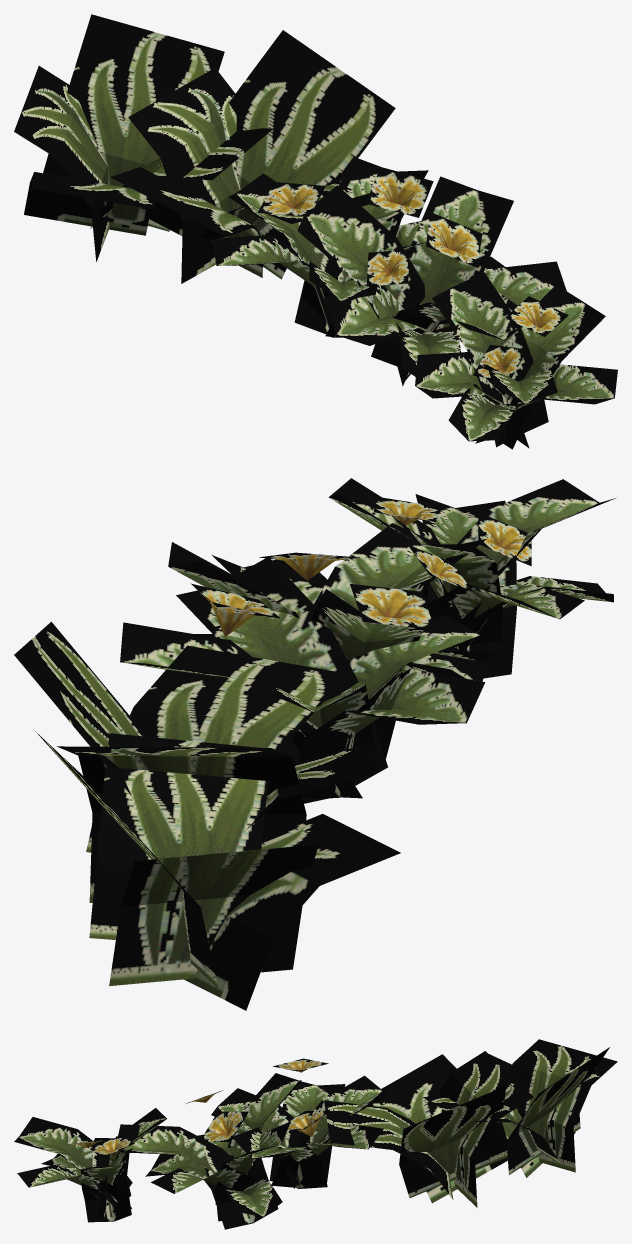
File: plant_lobbynew02_zhiwu_huacao01.FBX
3 renders of one model, top to bottom at view 1: azimuth 30°, elevation 25°; view 2: azimuth 150°, elevation 25°; view 3: azimuth 270°, elevation 25°, orthographic. The views are drawn at different scales.
Parts seen in each view (by area): view 1: plant_lobbynew02_zhiwu_huacao01; view 2: plant_lobbynew02_zhiwu_huacao01; view 3: plant_lobbynew02_zhiwu_huacao01.
Boxes of the visible parts, x1=… form: plant_lobbynew02_zhiwu_huacao01: x1=14, y1=14, x2=617, y2=449; plant_lobbynew02_zhiwu_huacao01: x1=14, y1=478, x2=615, y2=1010; plant_lobbynew02_zhiwu_huacao01: x1=14, y1=1039, x2=617, y2=1229.
Bounding box in the file's own units: 85.74 × 180 × 49.36.
